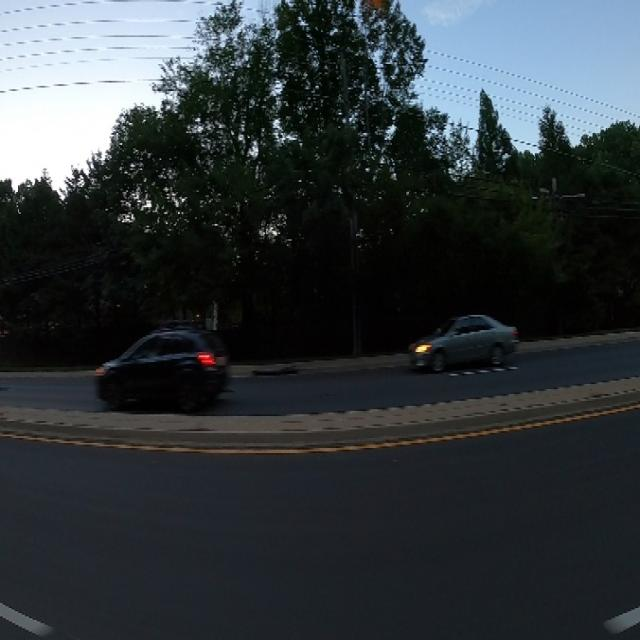Cars: (94, 322, 234, 419), (412, 307, 521, 391)
